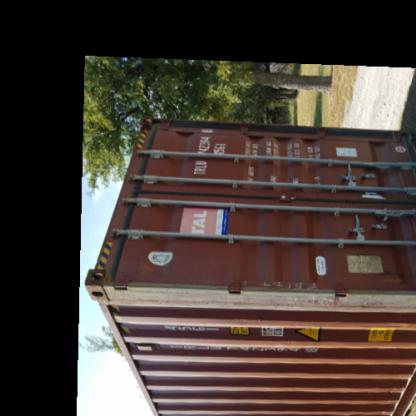Damage: (222, 274, 322, 300), (159, 319, 215, 341), (366, 266, 404, 288)
